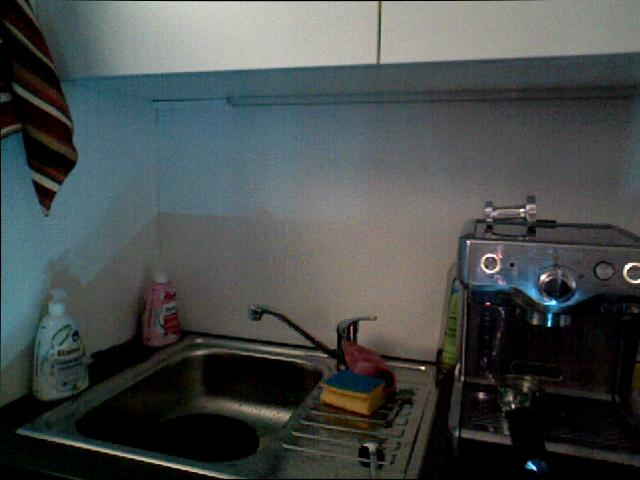bench: (31, 285, 93, 398), (434, 246, 475, 380), (138, 259, 182, 348)
couch: (27, 336, 323, 472)
toilet: (356, 429, 388, 480), (383, 385, 414, 426)
